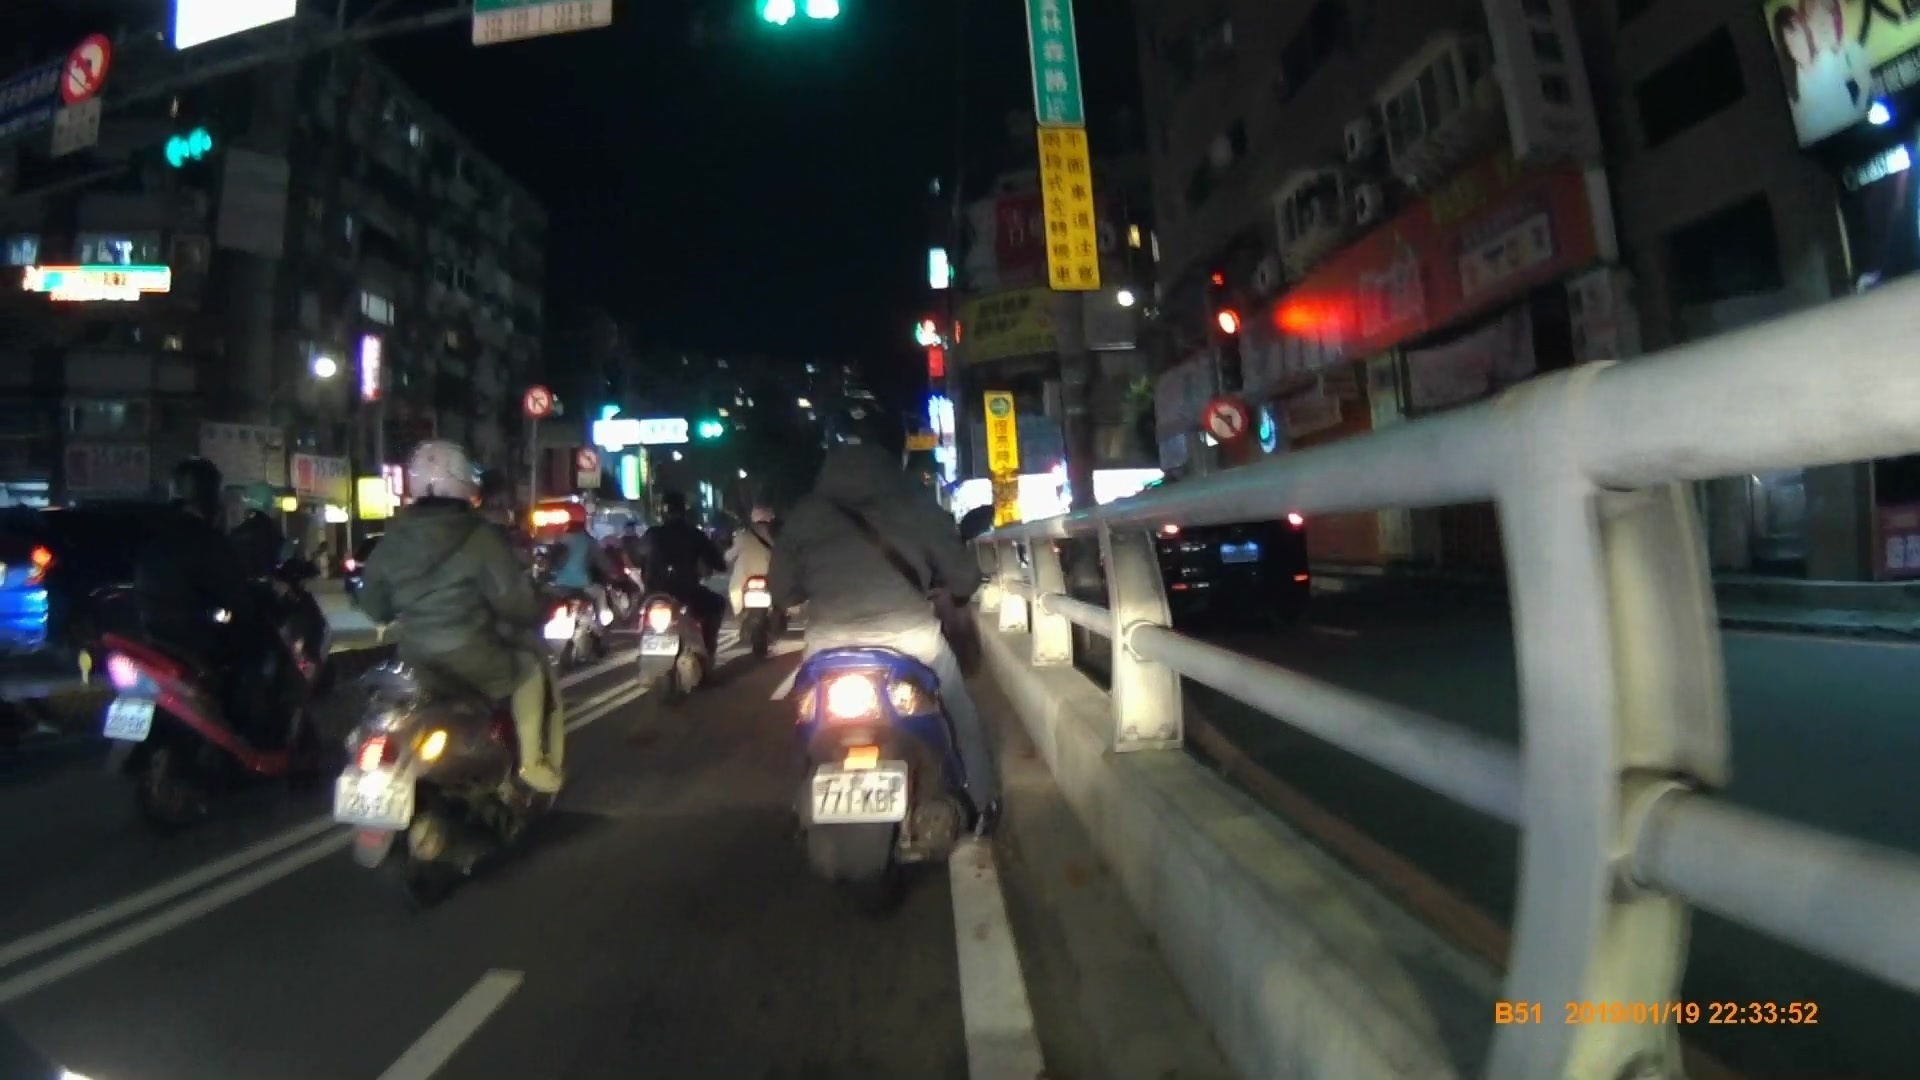License_plate: (812, 763, 912, 821), (333, 766, 415, 827), (104, 699, 154, 744)
